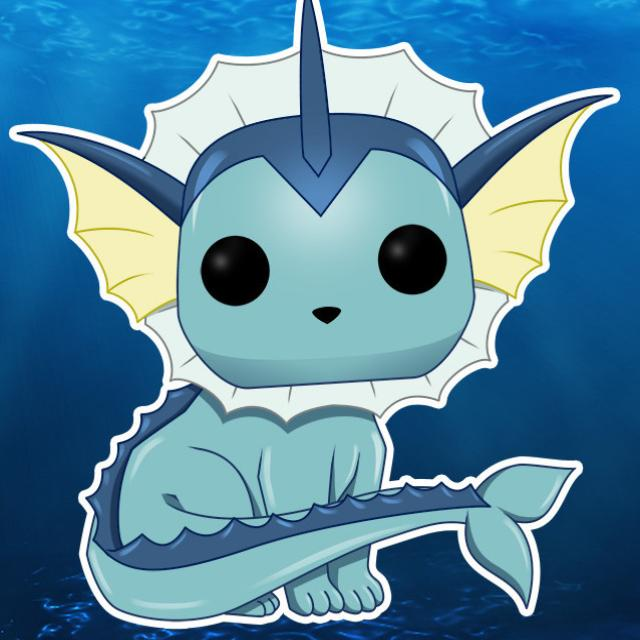Vaporeon: (94, 45, 536, 620)
